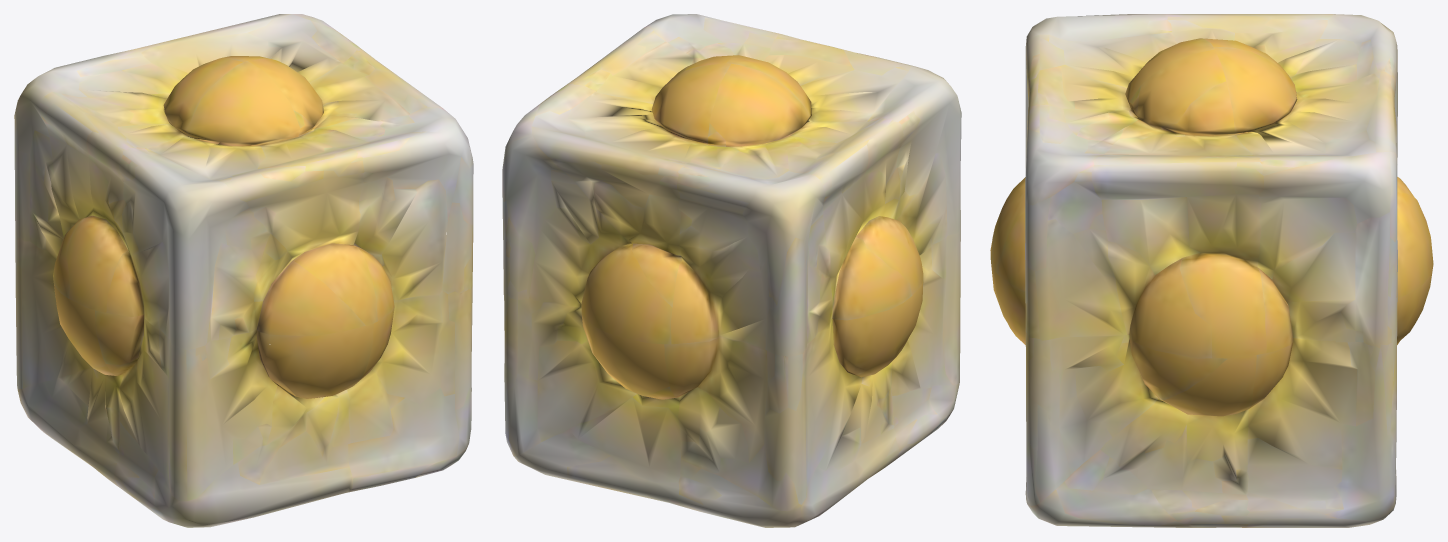
The model's file is sun.glb.
The picture shows the model from 3 angles, left to right: view 1: azimuth 30°, elevation 25°; view 2: azimuth 150°, elevation 25°; view 3: azimuth 270°, elevation 25°; orthographic projection. The views are drawn at different scales.
Parts seen in each view (by area): view 1: tripo_node_e72c8b1f-8d3f-49ae-8028-ba70304003c5; view 2: tripo_node_e72c8b1f-8d3f-49ae-8028-ba70304003c5; view 3: tripo_node_e72c8b1f-8d3f-49ae-8028-ba70304003c5.
Part boxes in pixels (x1,y1,x2,y2): tripo_node_e72c8b1f-8d3f-49ae-8028-ba70304003c5: (14,14,473,527); tripo_node_e72c8b1f-8d3f-49ae-8028-ba70304003c5: (502,14,961,527); tripo_node_e72c8b1f-8d3f-49ae-8028-ba70304003c5: (990,14,1433,527).
Bounding box in the file's own units: 0.9225 × 0.9797 × 0.9248.
Materials: 1 (1 with a texture image).
